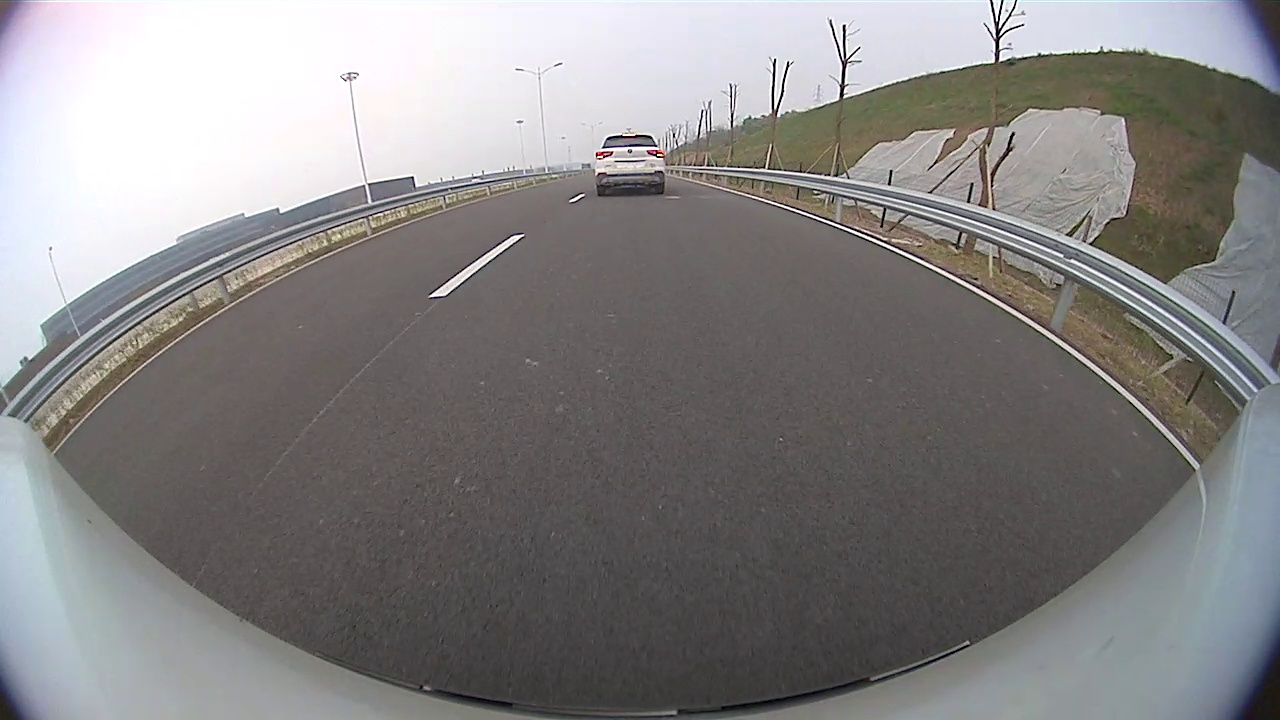car: (592, 129, 669, 197)
